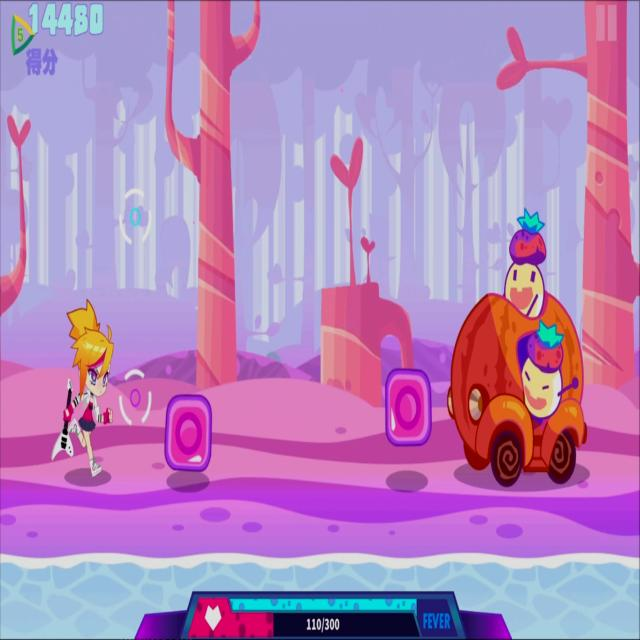cheboss: (444, 203, 594, 495)
kuai: (380, 358, 434, 458), (160, 387, 214, 481)
